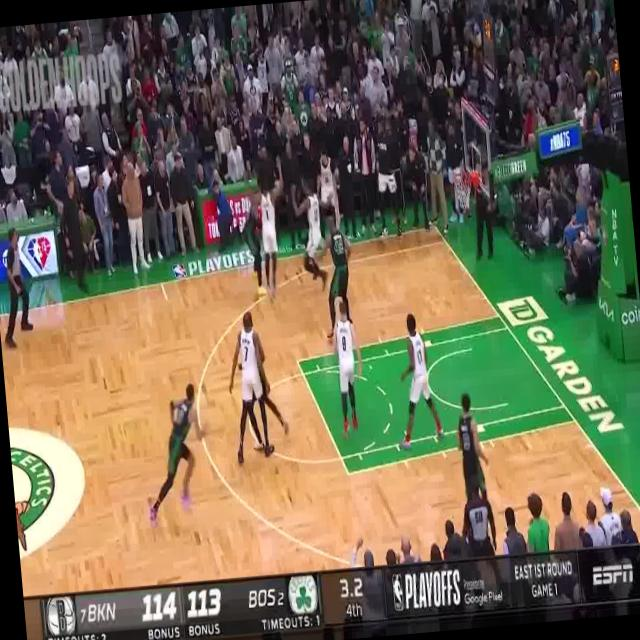ball-handler: (234, 179, 268, 297)
